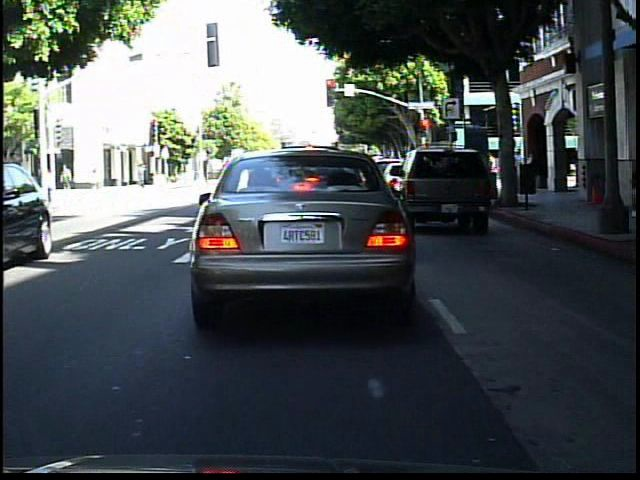person: (617, 141, 639, 221), (590, 143, 612, 217), (46, 163, 59, 207), (29, 168, 44, 206), (87, 163, 103, 198), (135, 161, 151, 191), (60, 161, 75, 192)
